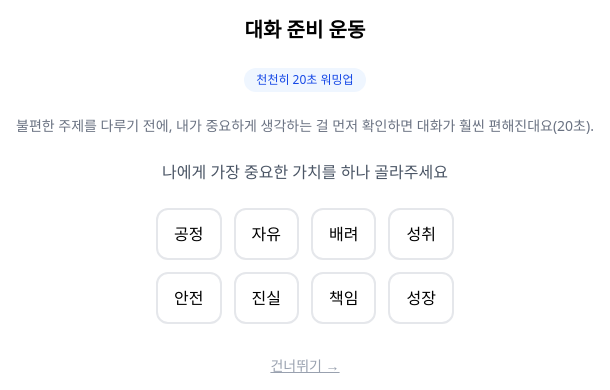
Test: SelfAffirmationStep › transitions to experience step after value selection
The image size is (610, 390).
Click the button "공정" at (189, 234), box [156,208,222,260]
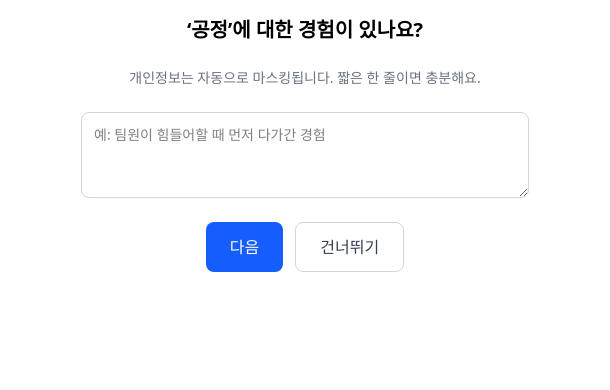
Expected: the heading "‘공정’에 대한 경험이 있나요?" is shown, [187,16,423,44]
Expected: the text box named "경험 입력" is shown, [81,112,529,198]
